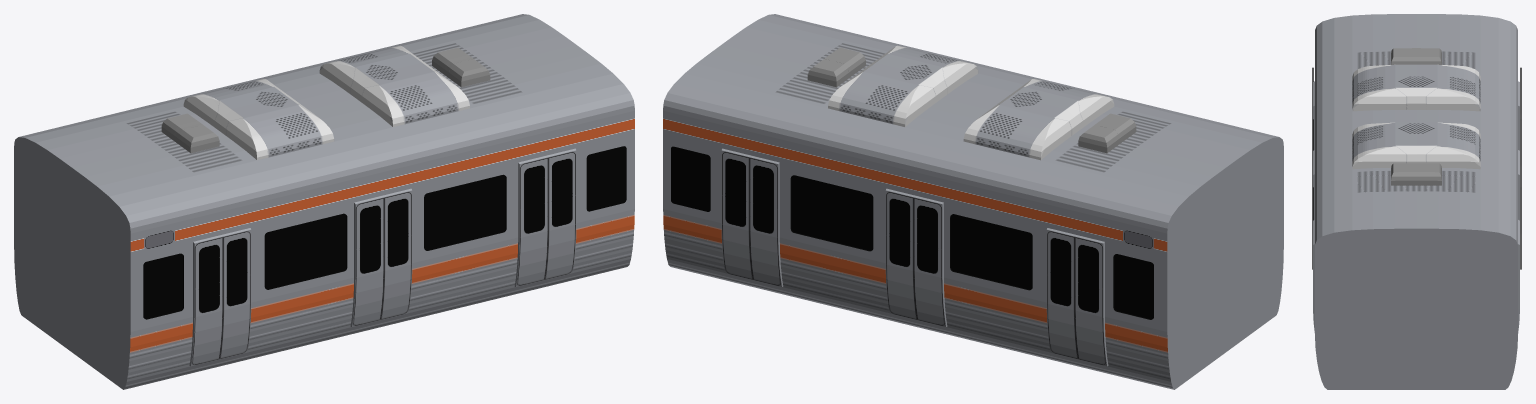
3 renders of one model, left to right at view 1: azimuth 30°, elevation 25°; view 2: azimuth 150°, elevation 25°; view 3: azimuth 270°, elevation 25°, orthographic. The views are drawn at different scales.
Visible parts, largest first — view 1: Body, Door_3.002, Door_3, Door_3.001, Top_a_2.001, Top_a_2, Window_2, Window_1, Window_Mini_2, Window_Mini_1, Top_b_1, Top_b_2; view 2: Body, Door_3.002, Door_3, Door_3.001, Top_a_2.001, Top_a_2, Window_1, Window_2, Window_Mini_2, Window_Mini_1, Top_b_1, Top_b_2; view 3: Body, Top_a_2.001, Top_a_2, Top_b_1, Top_b_2, Door_3.002, Window_1, Door_3.001, Door_3, Window_2.
Boxes of the visible parts, <box> form: Body: <box>14,14,634,389</box>; Door_3.002: <box>514,148,576,286</box>; Door_3: <box>189,228,251,366</box>; Door_3.001: <box>350,188,412,326</box>; Top_a_2.001: <box>183,79,334,160</box>; Top_a_2: <box>319,45,469,126</box>; Window_2: <box>264,213,347,289</box>; Window_1: <box>424,174,506,250</box>; Window_Mini_2: <box>143,253,183,319</box>; Window_Mini_1: <box>586,146,626,211</box>; Top_b_1: <box>432,47,490,87</box>; Top_b_2: <box>161,113,219,153</box>; Body: <box>663,14,1283,389</box>; Door_3.002: <box>721,148,783,286</box>; Door_3: <box>1046,228,1108,366</box>; Door_3.001: <box>885,188,947,326</box>; Top_a_2.001: <box>963,79,1114,160</box>; Top_a_2: <box>828,45,978,126</box>; Window_1: <box>790,175,873,251</box>; Window_2: <box>950,214,1032,290</box>; Window_Mini_2: <box>1113,254,1153,319</box>; Window_Mini_1: <box>671,146,710,211</box>; Top_b_1: <box>807,47,865,87</box>; Top_b_2: <box>1078,113,1136,153</box>; Body: <box>1315,14,1517,389</box>; Top_a_2.001: <box>1352,64,1480,111</box>; Top_a_2: <box>1352,122,1480,169</box>; Top_b_1: <box>1391,163,1441,185</box>; Top_b_2: <box>1391,48,1441,64</box>; Door_3.002: <box>1313,220,1519,333</box>; Window_1: <box>1312,187,1521,269</box>; Door_3.001: <box>1313,150,1519,220</box>; Door_3: <box>1313,81,1519,150</box>; Window_2: <box>1312,119,1521,187</box>.
Bounding box in the file's own units: 825 × 776 × 2000.
